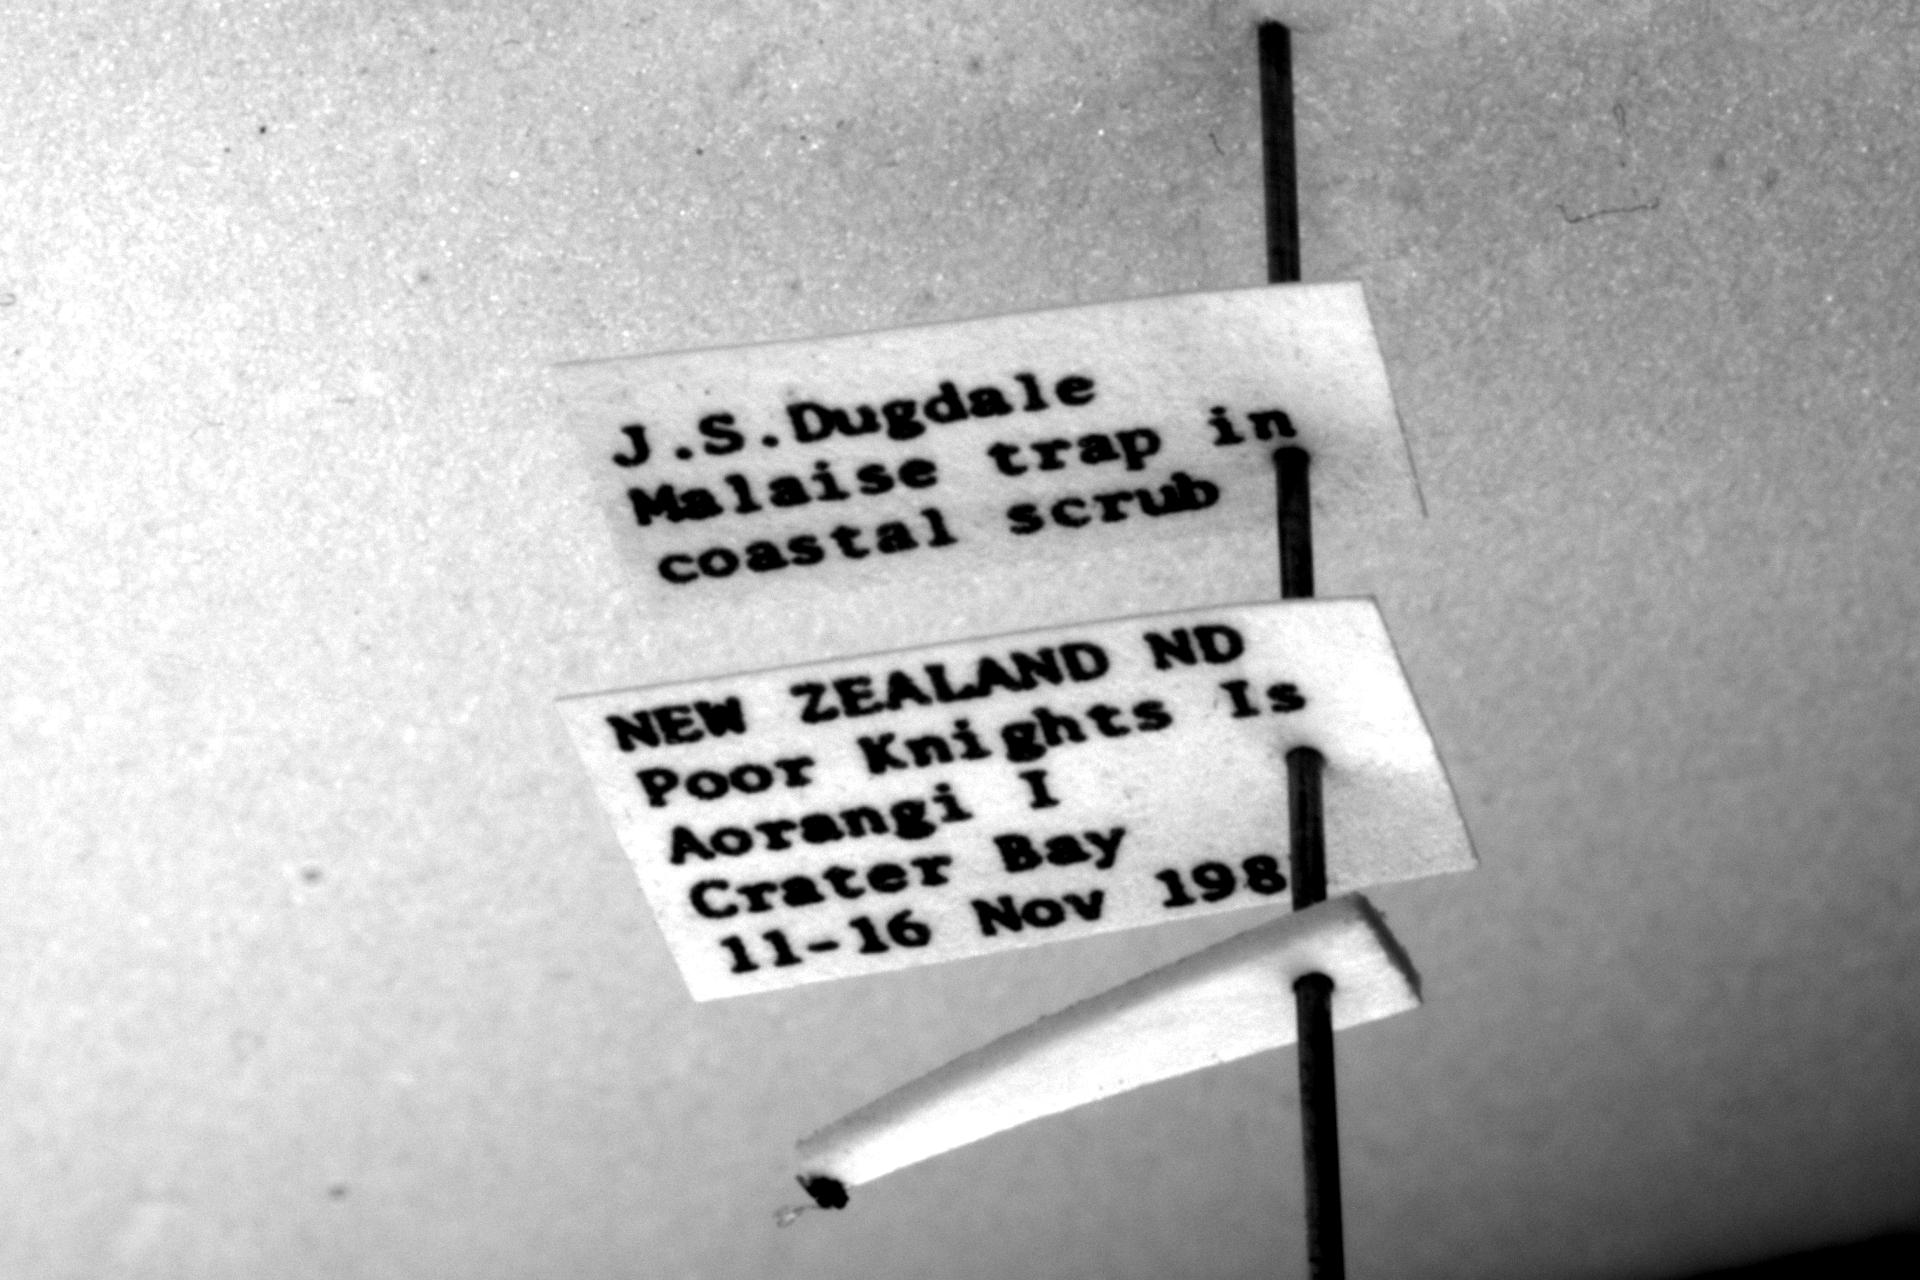typed_label: (559, 600, 1474, 1001), (559, 281, 1421, 614)
